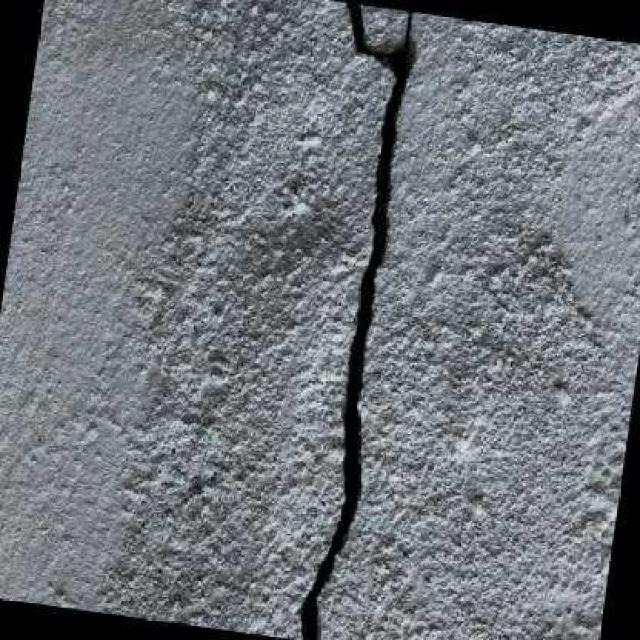D00: (293, 0, 415, 640)
